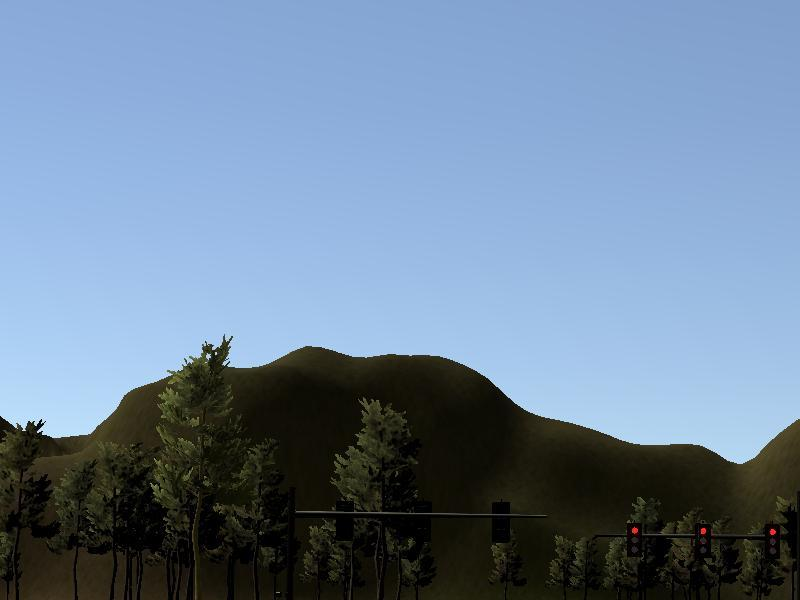Red: (627, 521, 643, 556), (695, 523, 711, 558), (765, 525, 781, 560)
